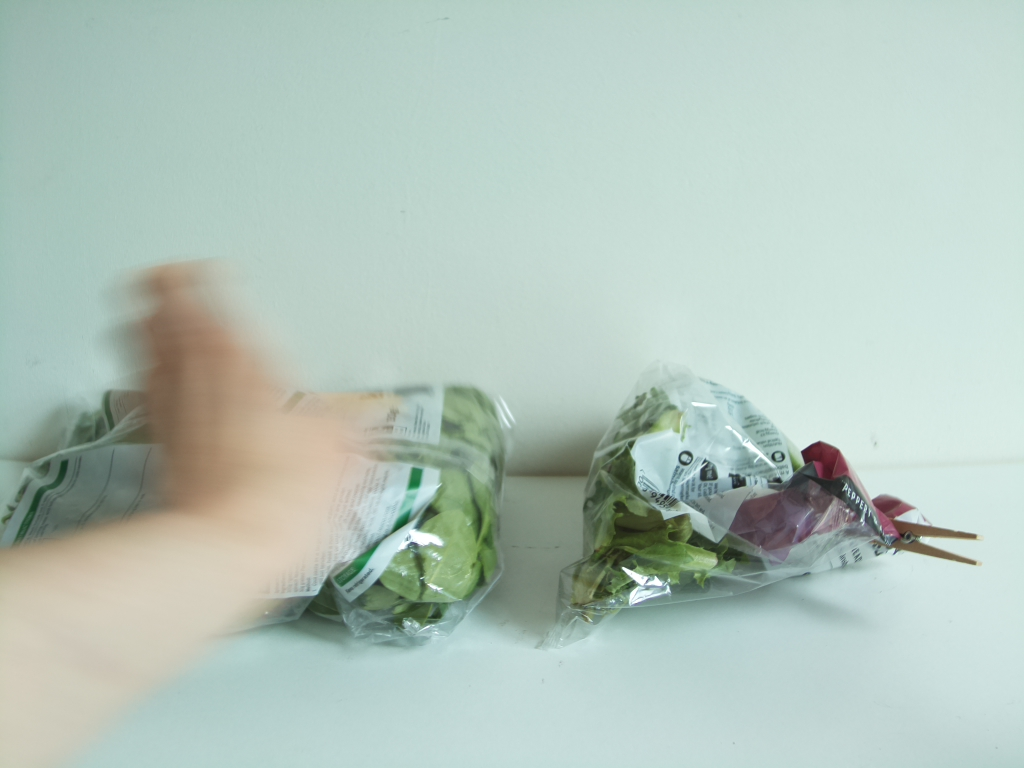salad: (1, 387, 515, 647), (566, 368, 901, 645)
